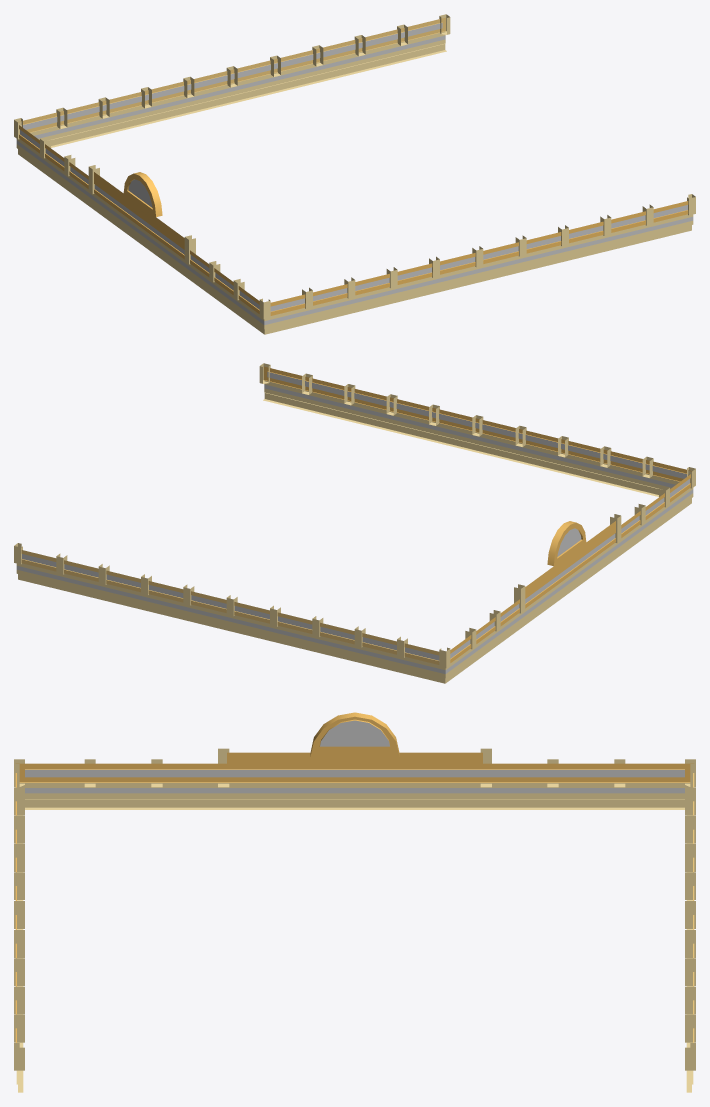
File: BuildingBig2_3.fbx
3 renders of one model, top to bottom at view 1: azimuth 30°, elevation 25°; view 2: azimuth 150°, elevation 25°; view 3: azimuth 270°, elevation 25°, orthographic. The views are drawn at different scales.
Visible parts, largest first — view 1: BuildingBig2_3; view 2: BuildingBig2_3; view 3: BuildingBig2_3.
Part boxes in pixels (bbox=[...]): BuildingBig2_3: bbox=[14, 14, 695, 334]; BuildingBig2_3: bbox=[14, 363, 695, 683]; BuildingBig2_3: bbox=[14, 712, 695, 1092].
Bounding box in the file's own units: 6130 × 935 × 6130.
